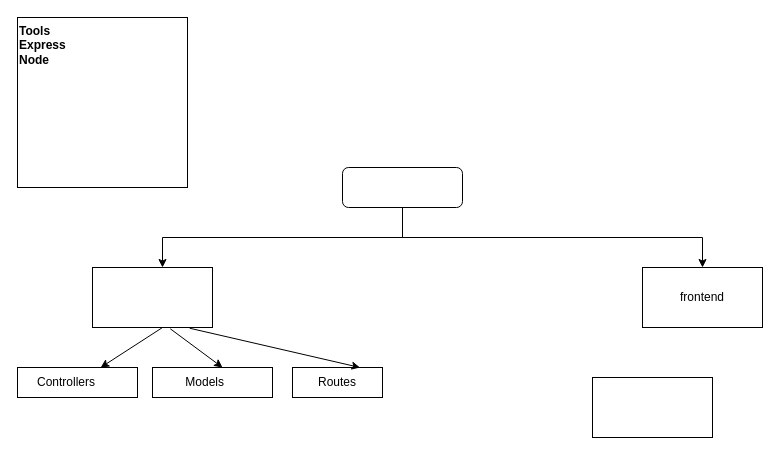
Some shapes in this 780 by 455 pixel diagram are drawn without their labels. Here are the shapes that lost their labels. From the top down, the centre of each, then its label:
(x=402, y=187): Compare Price
(x=152, y=297): backend
